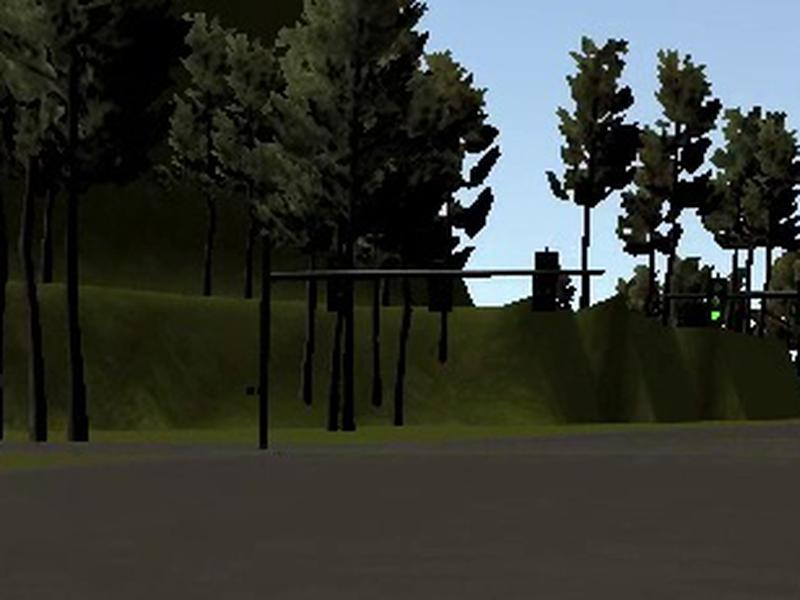Green: (707, 278, 727, 326)
